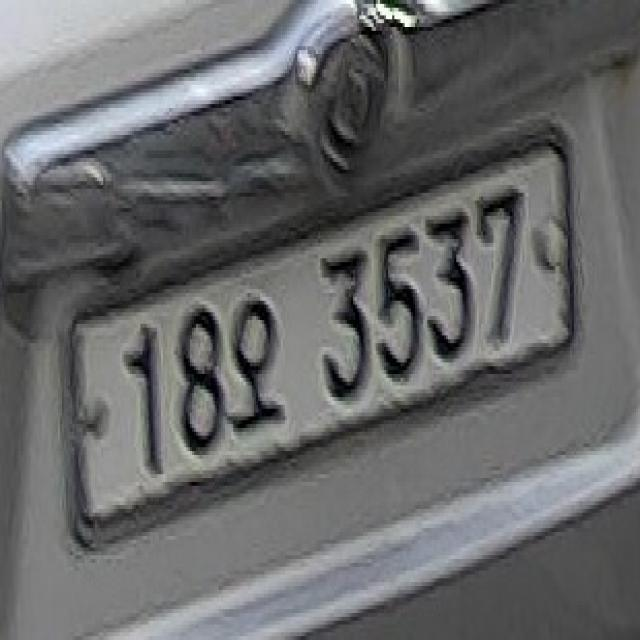1: (122, 316, 167, 486)
3: (314, 235, 372, 420), (423, 197, 475, 370)
5: (372, 216, 425, 393)
7: (475, 173, 530, 354)
8: (174, 293, 227, 467)
license_plate: (56, 116, 582, 559)
o: (227, 274, 287, 447)
